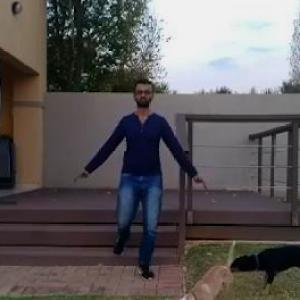land: (94, 88, 186, 262)
